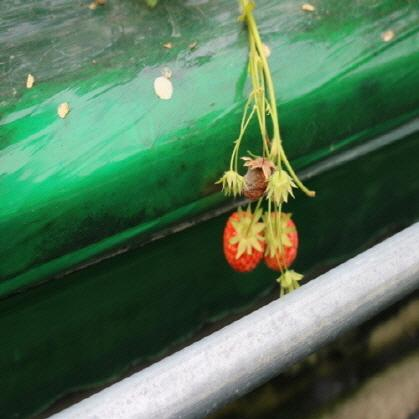Gray Mold: (239, 150, 275, 199)
